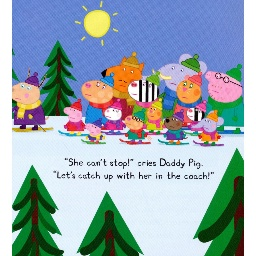Peppa: (61, 98, 86, 135)
